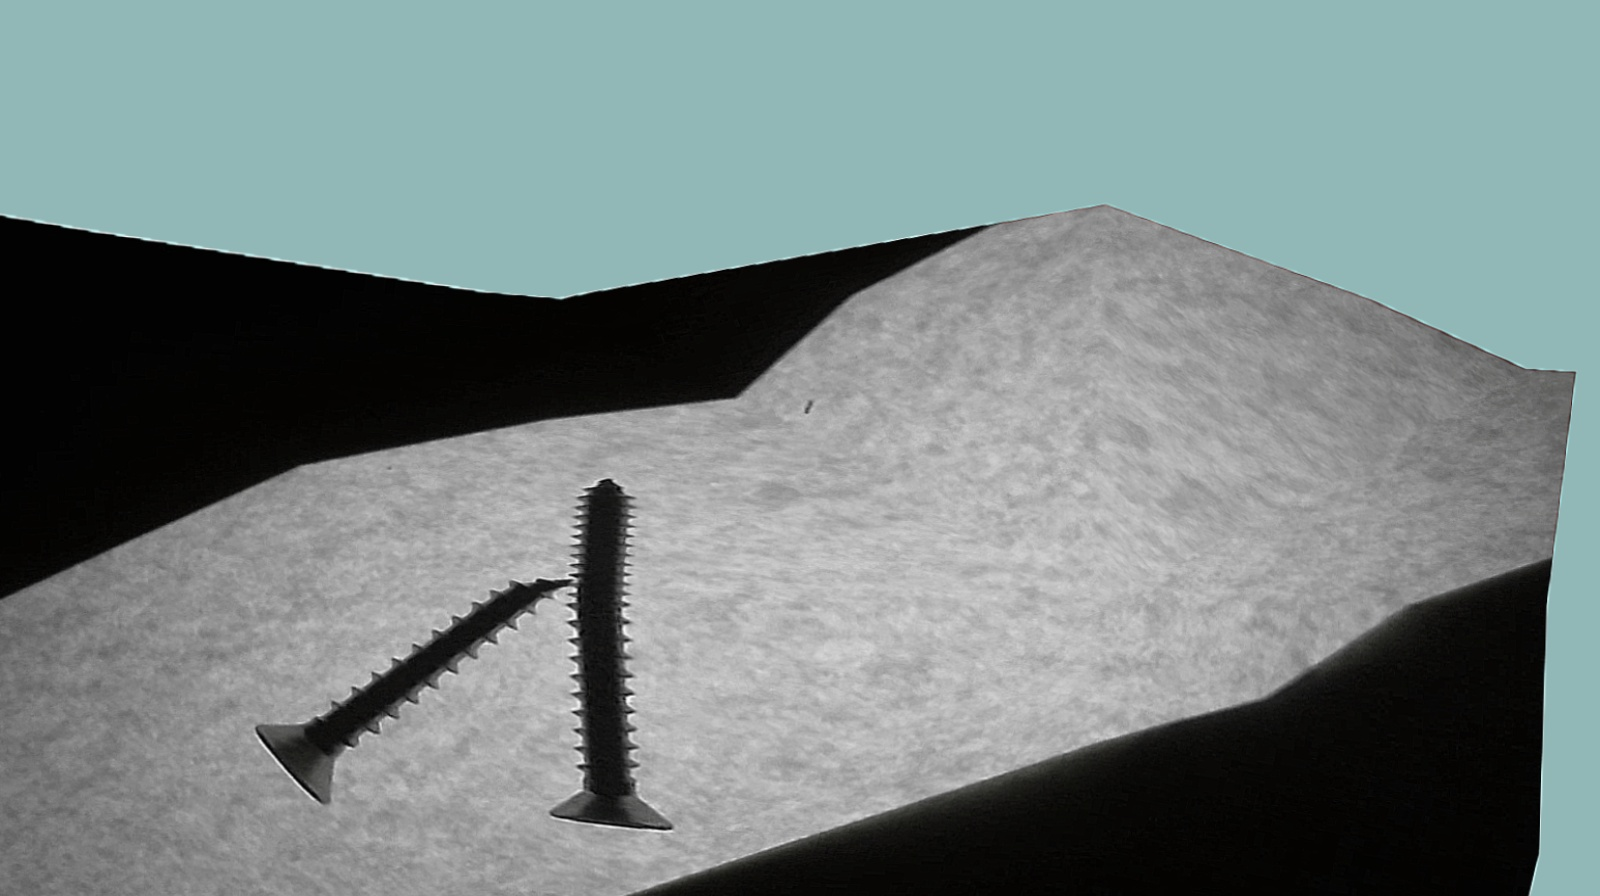S001: (237, 575, 574, 820)
S002: (544, 471, 725, 842)
